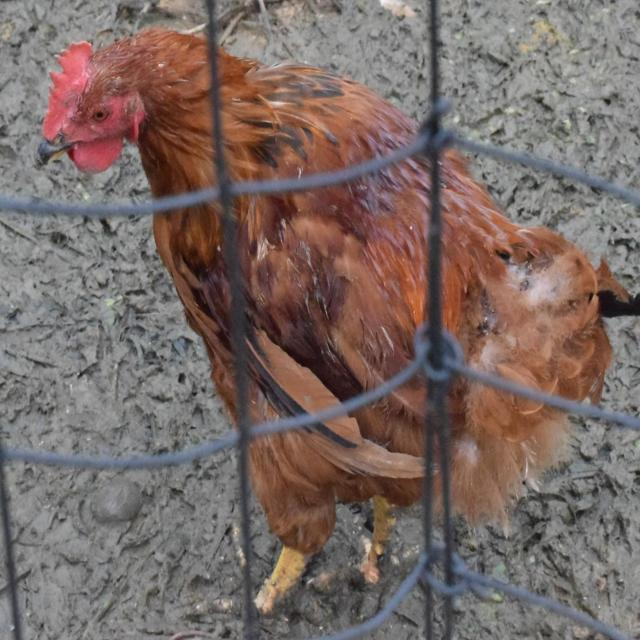cook: (244, 377, 439, 613), (413, 376, 572, 541)
